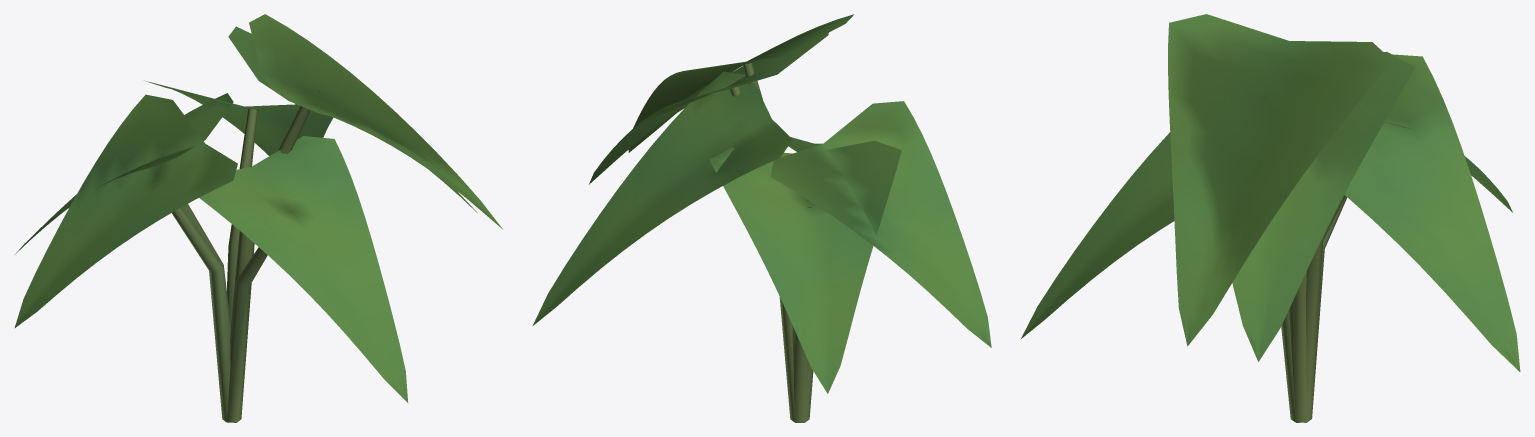
Rendered from colocasia.glb.
The picture shows the model from 3 angles, left to right: view 1: azimuth 30°, elevation 25°; view 2: azimuth 150°, elevation 25°; view 3: azimuth 270°, elevation 25°; orthographic projection. The views are drawn at different scales.
Parts seen in each view (by area): view 1: colocasia; view 2: colocasia; view 3: colocasia.
Boxes of the visible parts, box(x1,y1,x2,y2) form: colocasia: box(14, 14, 502, 422); colocasia: box(532, 14, 991, 422); colocasia: box(1021, 14, 1520, 422).
Bounding box in the file's own units: 2.07 × 1.66 × 1.86.
